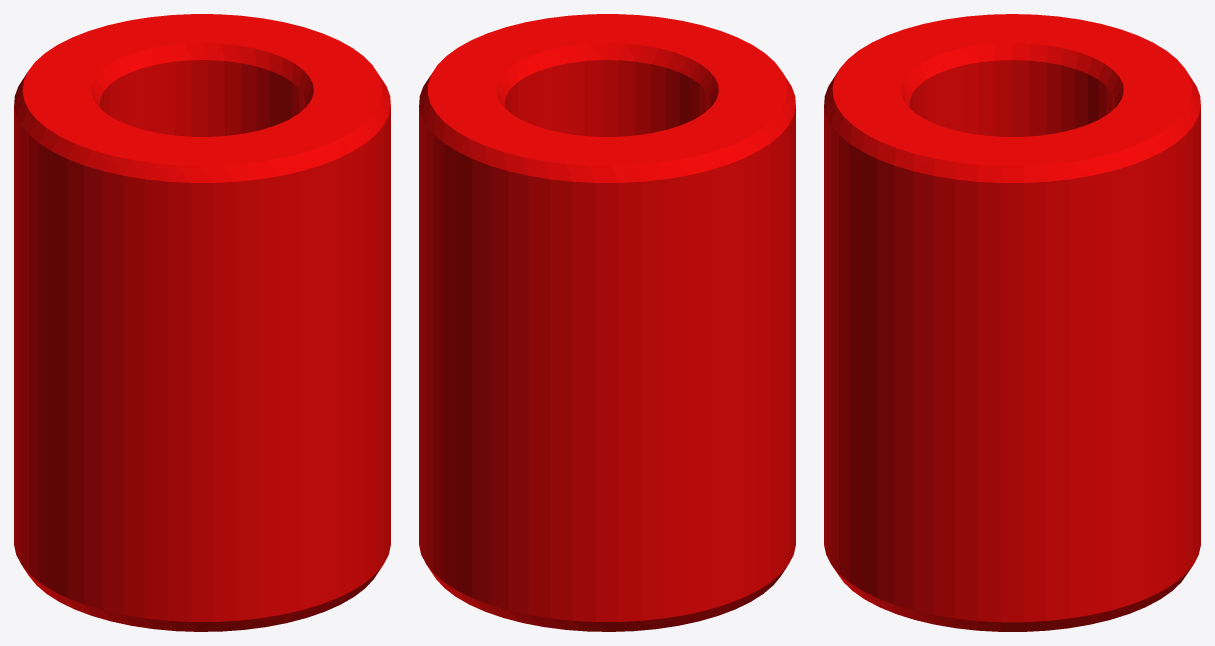
Rendered from hengeres_babu_piros.dae.
3 renders of one model, left to right at view 1: azimuth 30°, elevation 25°; view 2: azimuth 150°, elevation 25°; view 3: azimuth 270°, elevation 25°, orthographic.
Visible parts, largest first — view 1: hengeres_babu; view 2: hengeres_babu; view 3: hengeres_babu.
Boxes of the visible parts, x1,y1,x2,y2 form: hengeres_babu: (14,14,390,631); hengeres_babu: (419,14,795,631); hengeres_babu: (824,14,1200,631).
Size of the model in its own units: 0.022 by 0.022 by 0.03.
